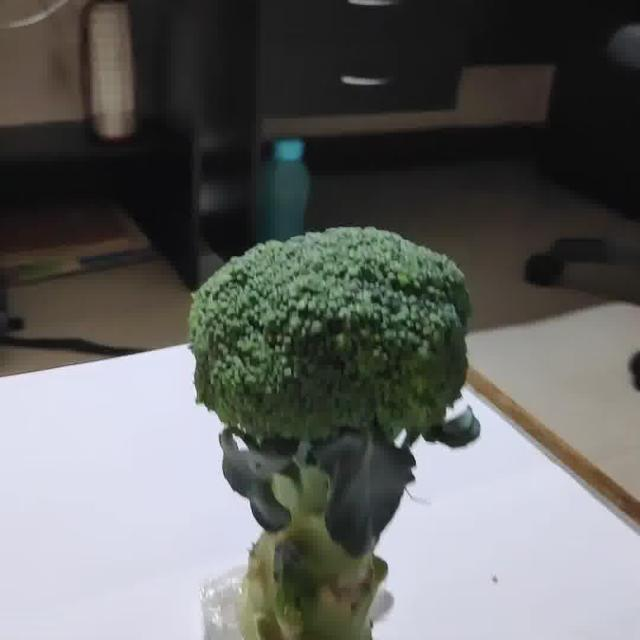Broccoli: (190, 228, 479, 639)
